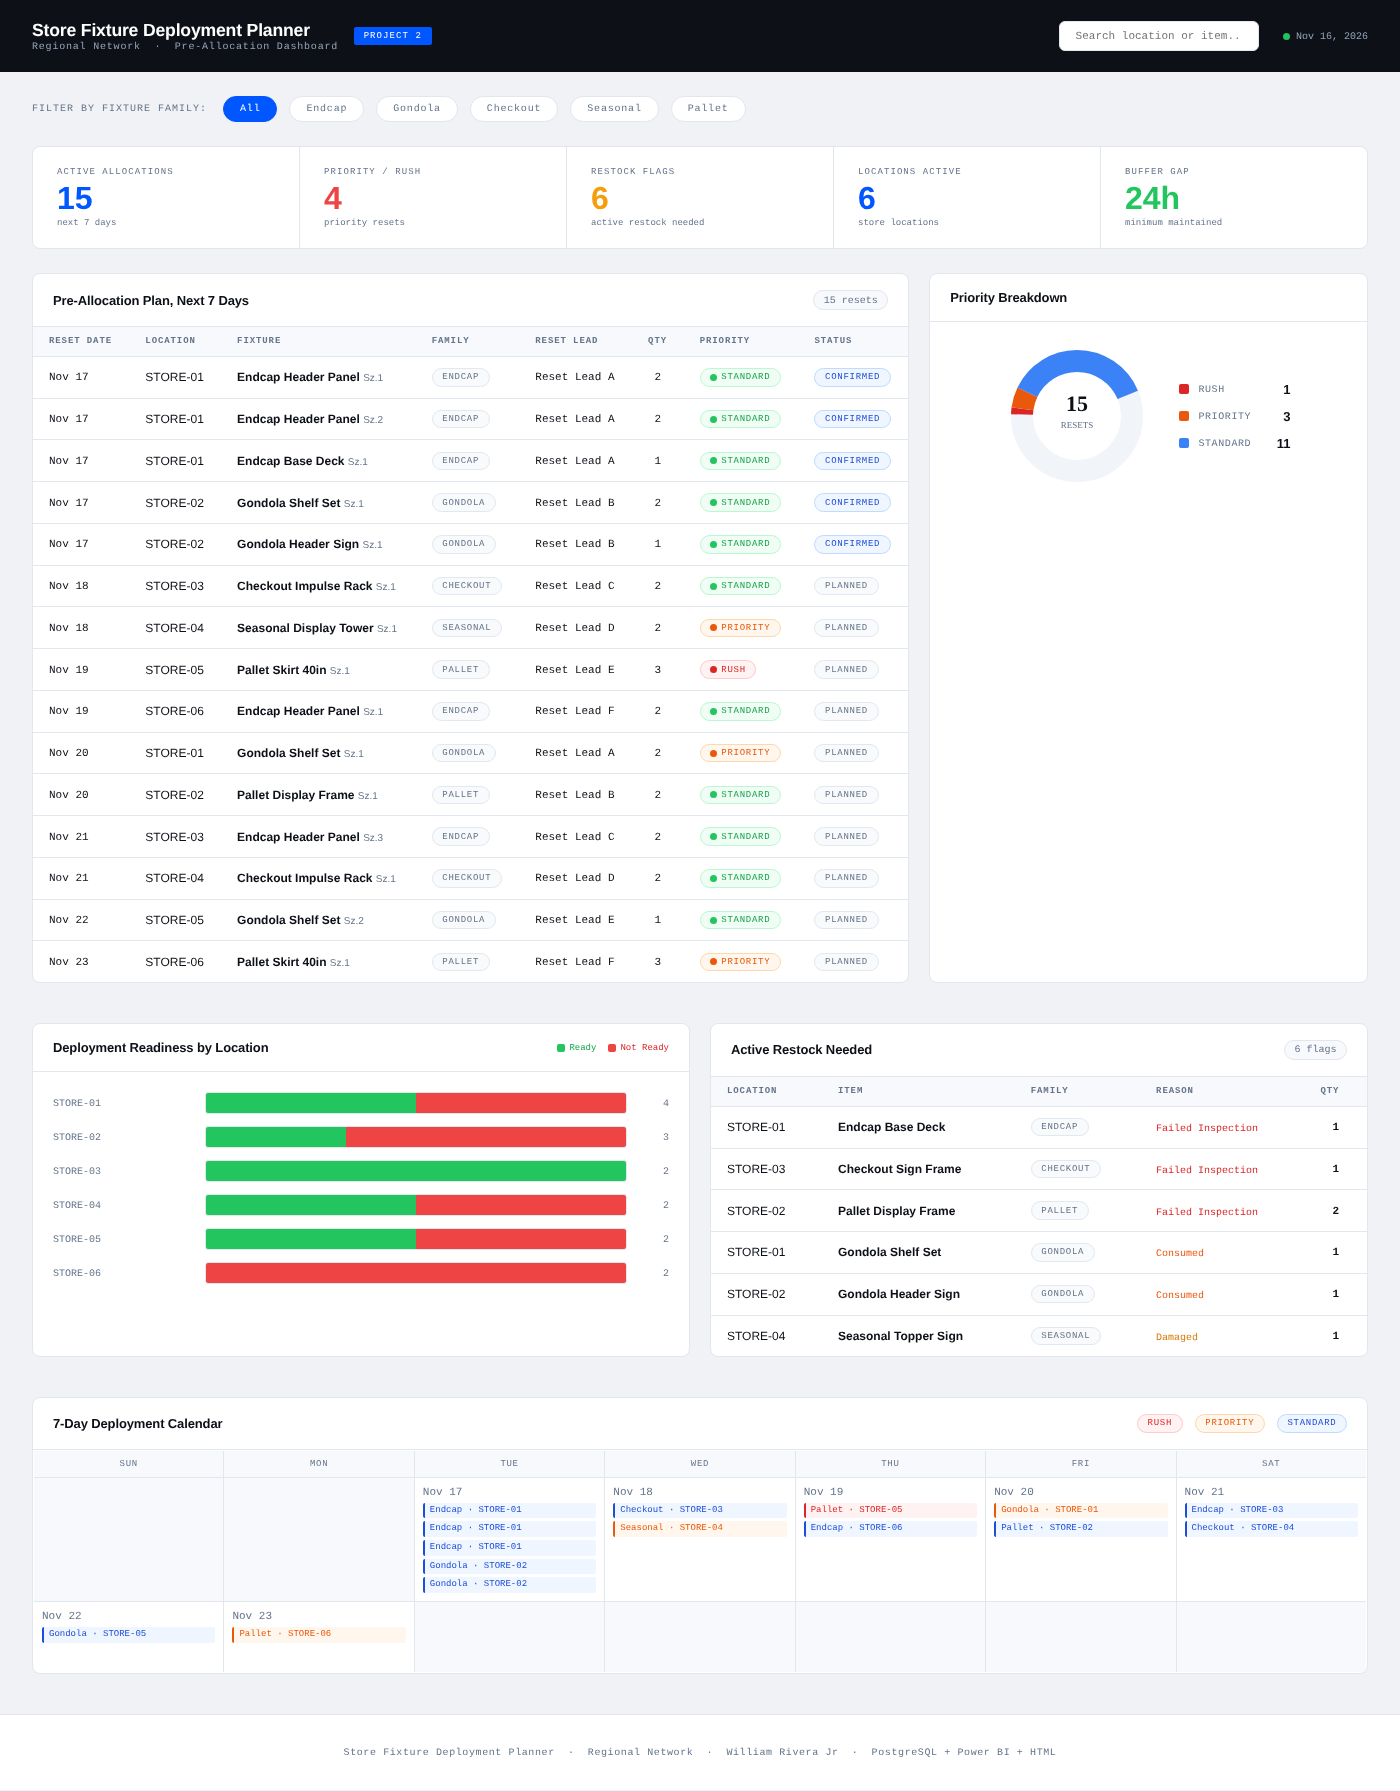

This screenshot's page, from the dashboard's own definition file:
{"tool":"powerbi","page":{"name":"Deployment Readiness","canvas":[1920,1080],"ordinal":0},"visuals":[{"type":"cardVisual","fields":{"Data":["Planner Measures.Scheduled Resets","Planner Measures.Readiness Rate","Planner Measures.Restock Flags","Planner Measures.Buffer Gap Risks"]},"box":[10.7,0,1910.1,198.1],"z":0},{"type":"barChart","fields":{"Category":["Stores.Store"],"Series":["deployment_readiness.readiness_status"],"Y":["Planner Measures.Scheduled Fixtures"]},"box":[10.7,239.2,949.7,385.6],"z":1},{"type":"clusteredBarChart","fields":{"Category":["restock_needed.flag_reason"],"Y":["Planner Measures.Restock Flags"]},"box":[10.7,635.5,949.7,444.5],"z":2},{"type":"columnChart","fields":{"Category":["pre_allocation.Reset Day"],"Series":["pre_allocation.priority"],"Y":["Planner Measures.Scheduled Resets"]},"box":[961,239,959,386],"z":3},{"type":"tableEx","fields":{"Values":["deployment_readiness.Deploy Day","Stores.Store","deployment_readiness.item_name","deployment_readiness.readiness_status"]},"box":[961,636,959,444],"z":4}]}

Visuals, with their boxes on the page's 1920x1080 design canvas (x1, y1, x2, y2). These are canvas units, not pixel positions in the 1400x1791 screenshot, which may show the page scaled, cropped or inside an application window:
cardVisual - Planner Measures.Scheduled Resets x Planner Measures.Readiness Rate: crop(11, 0, 1921, 198)
barChart - Stores.Store x deployment_readiness.readiness_status: crop(11, 239, 960, 625)
clusteredBarChart - restock_needed.flag_reason x Planner Measures.Restock Flags: crop(11, 636, 960, 1080)
columnChart - pre_allocation.Reset Day x pre_allocation.priority: crop(961, 239, 1920, 625)
tableEx - deployment_readiness.Deploy Day x Stores.Store: crop(961, 636, 1920, 1080)
